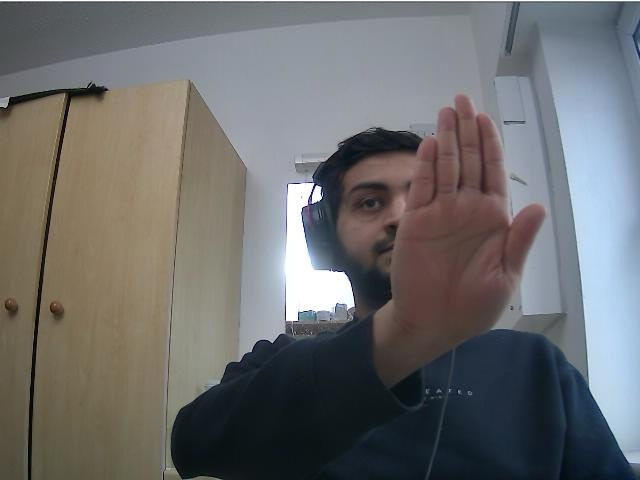up: (390, 92, 548, 328)
